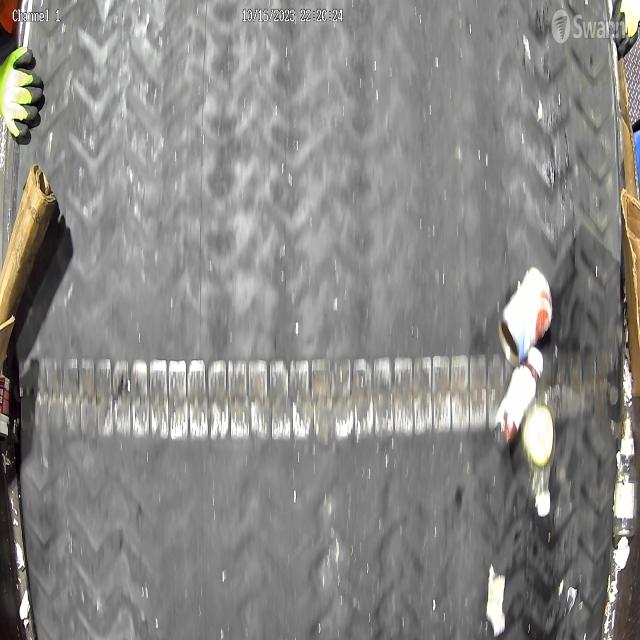can: (499, 265, 554, 366)
plastic_bottle: (492, 346, 544, 452), (522, 398, 557, 514), (612, 411, 638, 536)
